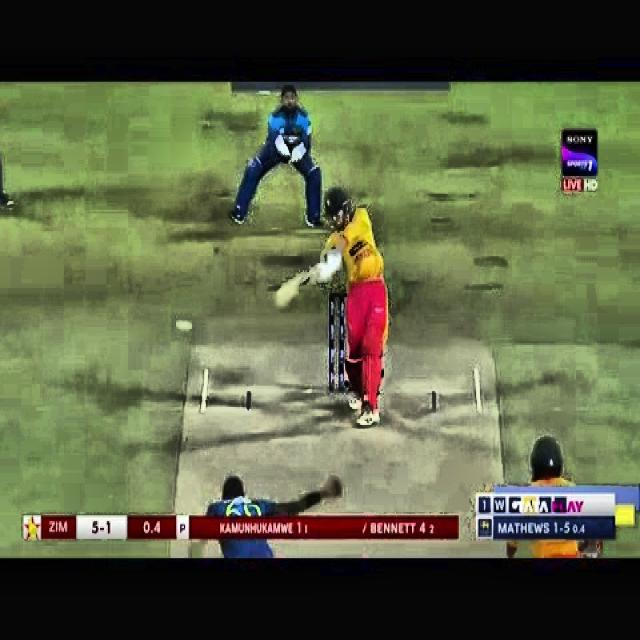Left-stump: (329, 302, 334, 390)
Middle-stump: (339, 302, 344, 390)
